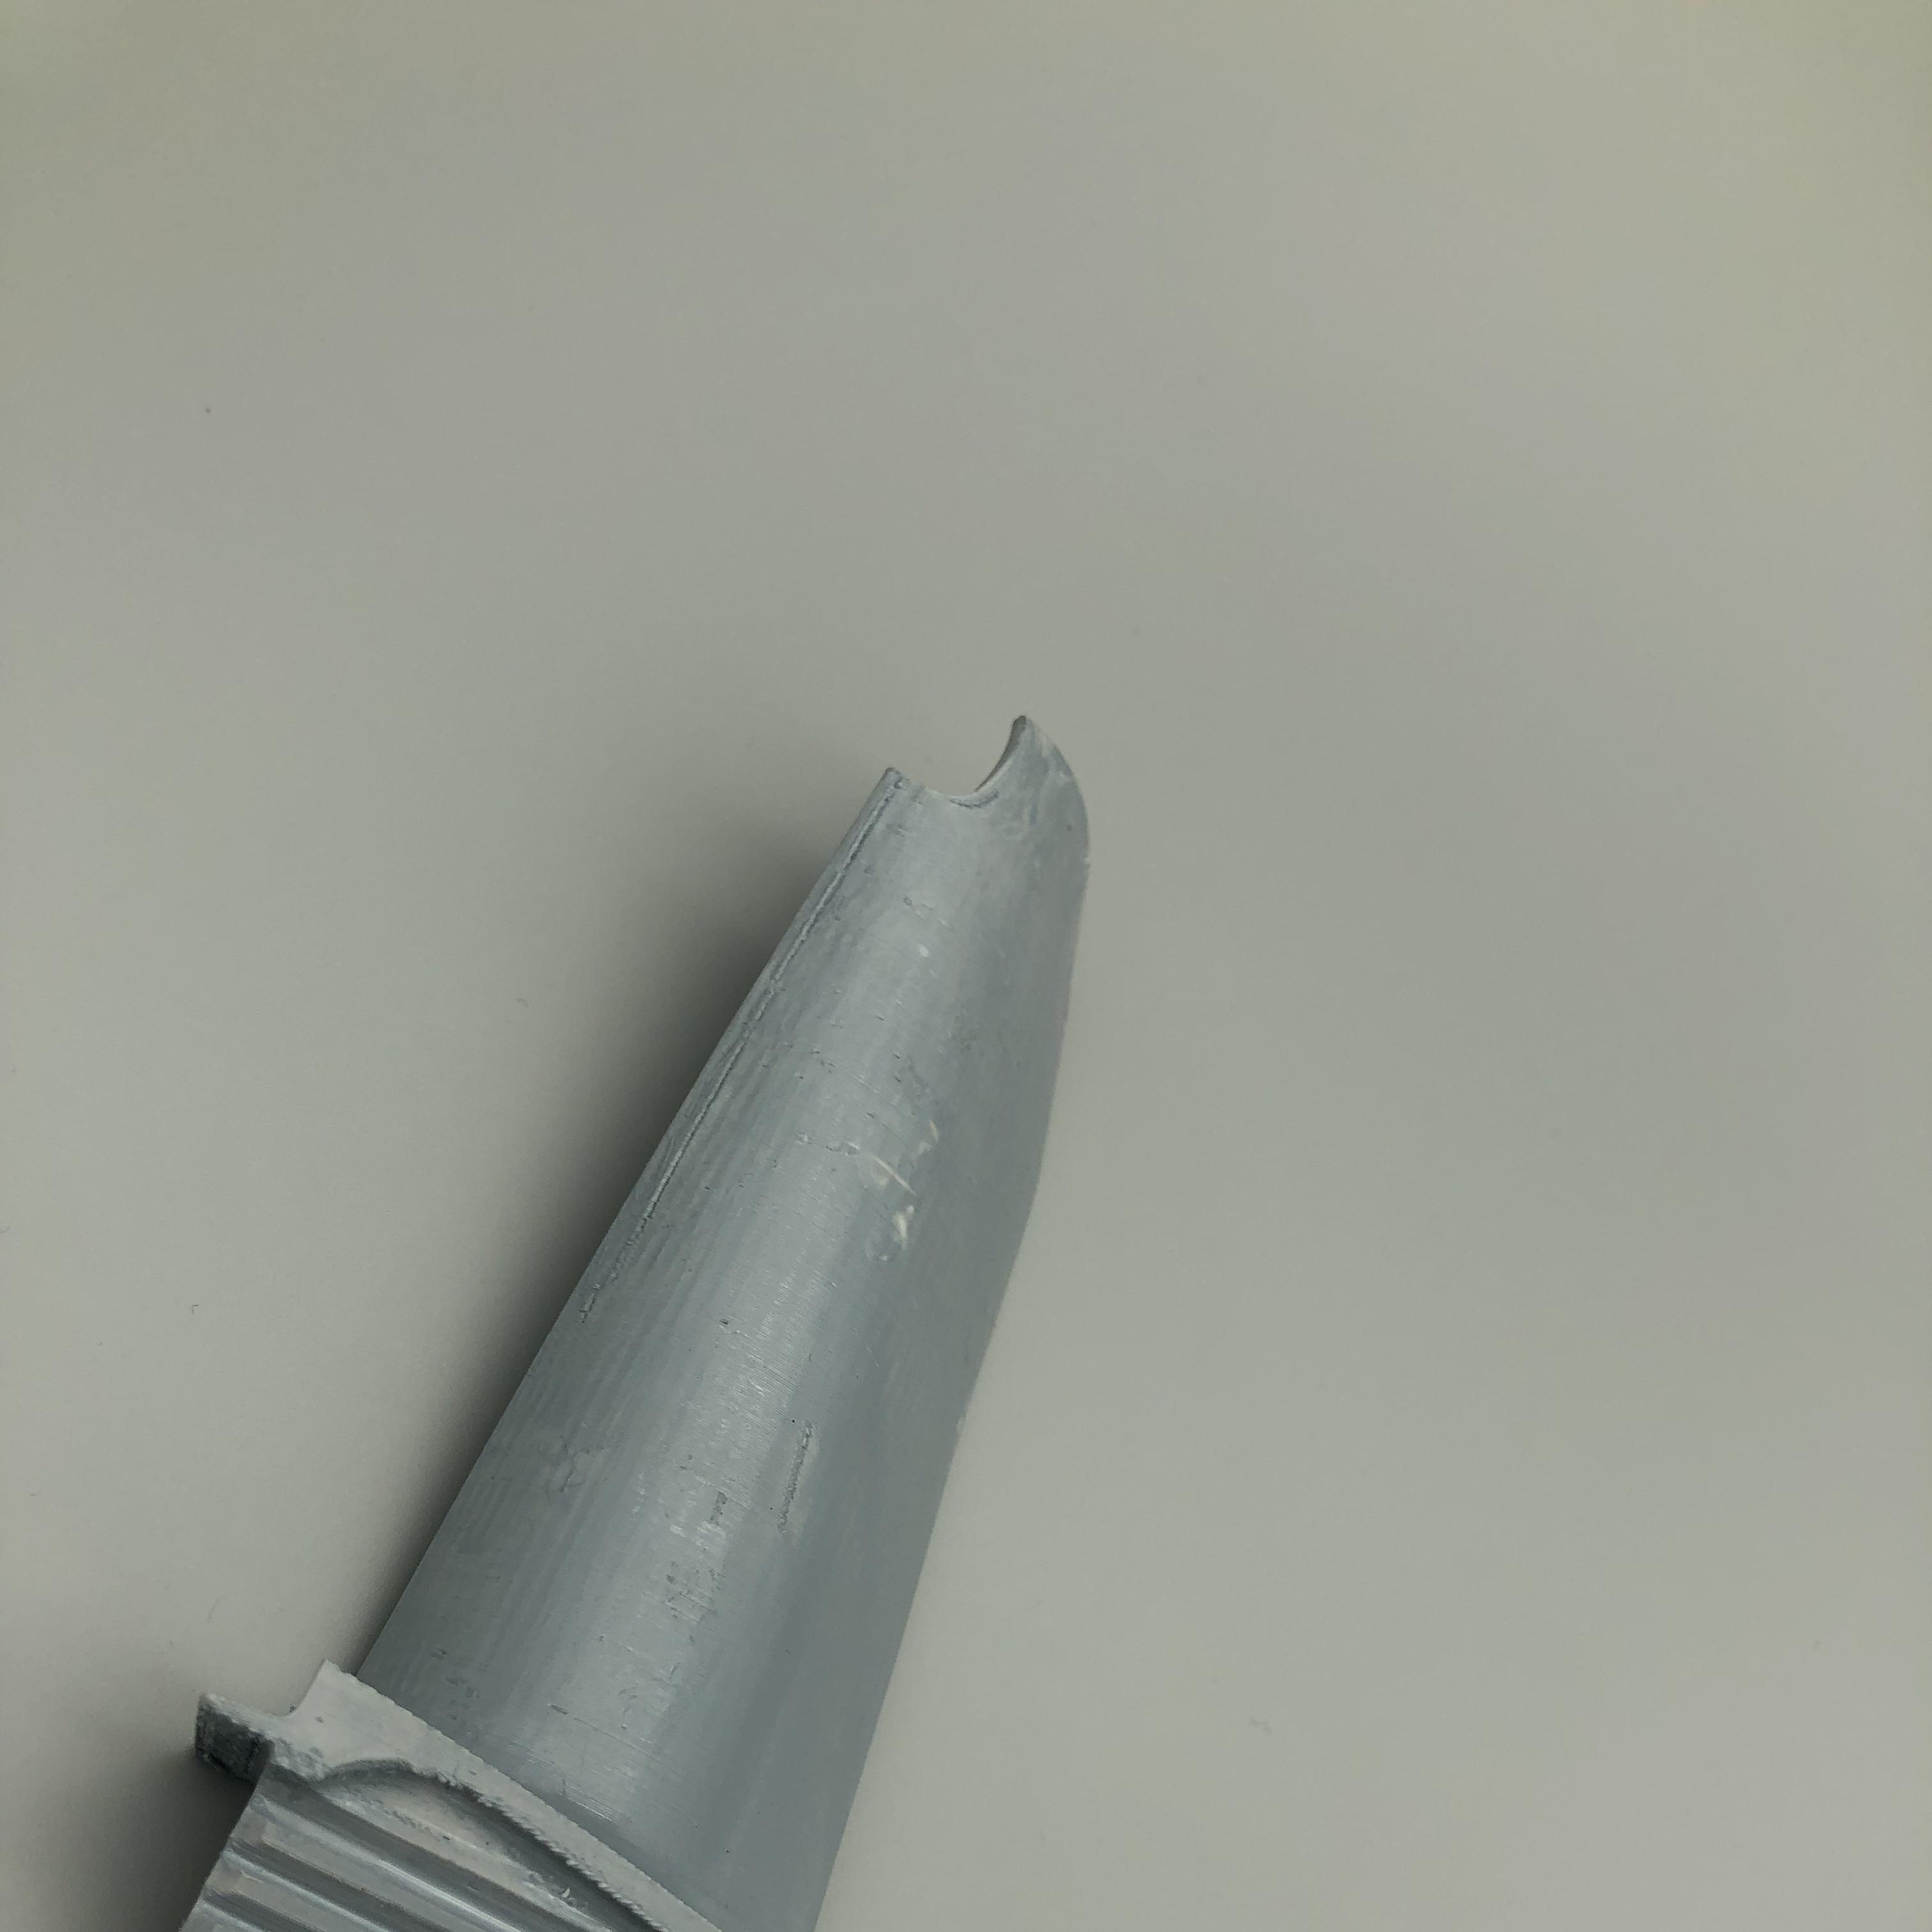fracture: (885, 713, 1049, 814)
